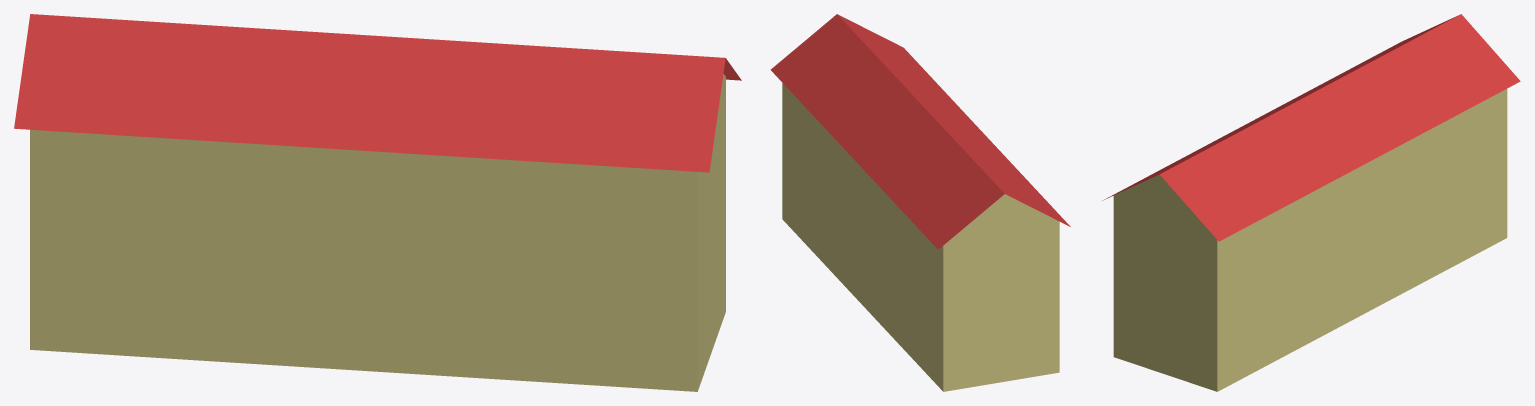
3 renders of one model, left to right at view 1: azimuth 30°, elevation 25°; view 2: azimuth 150°, elevation 25°; view 3: azimuth 270°, elevation 25°, orthographic. The views are drawn at different scales.
Parts seen in each view (by area): view 1: group_5, group_3, group_4; view 2: group_5, group_3, group_4; view 3: group_5, group_3, group_4.
Boxes of the visible parts, <box> form: group_5: <box>30,74,725,391</box>; group_3: <box>30,14,725,172</box>; group_4: <box>14,15,741,172</box>; group_5: <box>782,83,1059,391</box>; group_3: <box>770,14,1058,249</box>; group_4: <box>806,48,1070,226</box>; group_5: <box>1113,89,1507,391</box>; group_3: <box>1102,15,1520,241</box>; group_4: <box>1112,14,1487,195</box>.
Bounding box in the file's own units: 36.72 × 32.59 × 17.38.
